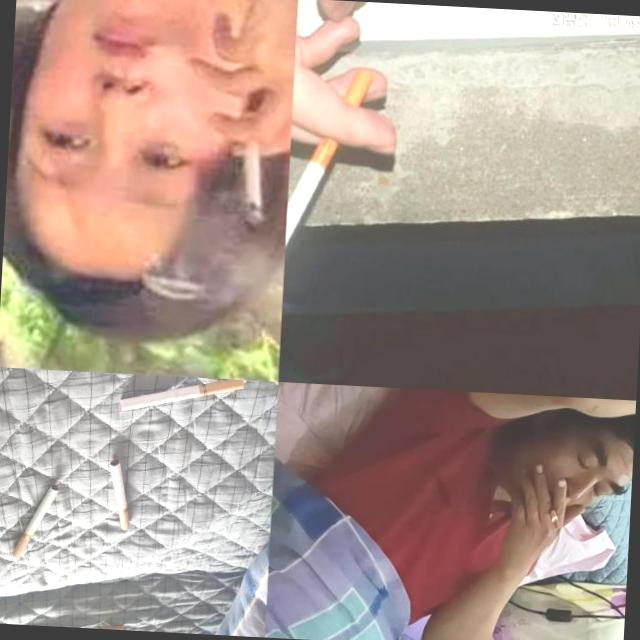smoke: (282, 64, 376, 320), (119, 374, 246, 418), (12, 481, 62, 559), (236, 109, 268, 229), (106, 458, 134, 530), (52, 622, 125, 630), (548, 502, 561, 529)
